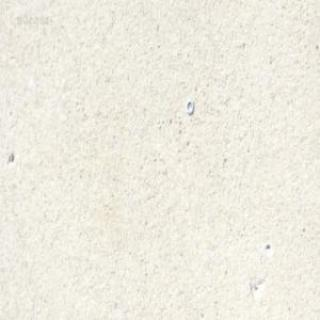Washertrack_idkeyframe: (185, 98, 193, 114)
